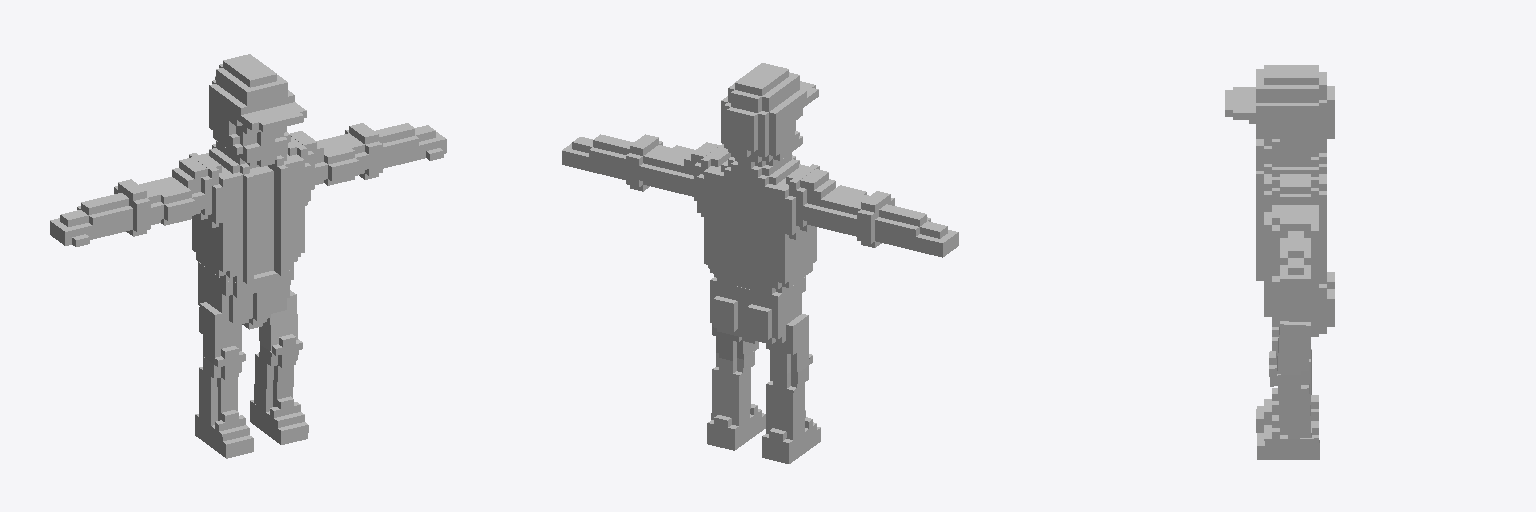
Rendered from Johnny Shotgun.obj.
3 renders of one model, left to right at view 1: azimuth 30°, elevation 25°; view 2: azimuth 150°, elevation 25°; view 3: azimuth 270°, elevation 25°, orthographic.
Visible parts, largest first — view 1: MSH_Jhonny_Shotgun; view 2: MSH_Jhonny_Shotgun; view 3: MSH_Jhonny_Shotgun.
Boxes of the visible parts, box(x1,y1,x2,y2) form: MSH_Jhonny_Shotgun: box(50, 54, 446, 458); MSH_Jhonny_Shotgun: box(562, 63, 958, 463); MSH_Jhonny_Shotgun: box(1225, 65, 1334, 459).
Size of the model in its own units: 5.61 by 5.18 by 1.4.